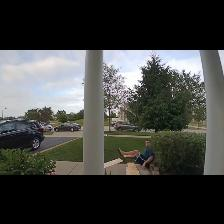person: (119, 140, 155, 167)
